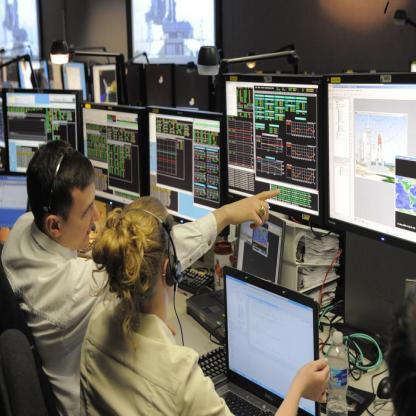board: (213, 261, 330, 416), (185, 213, 285, 344), (0, 171, 29, 250), (325, 333, 350, 416)
